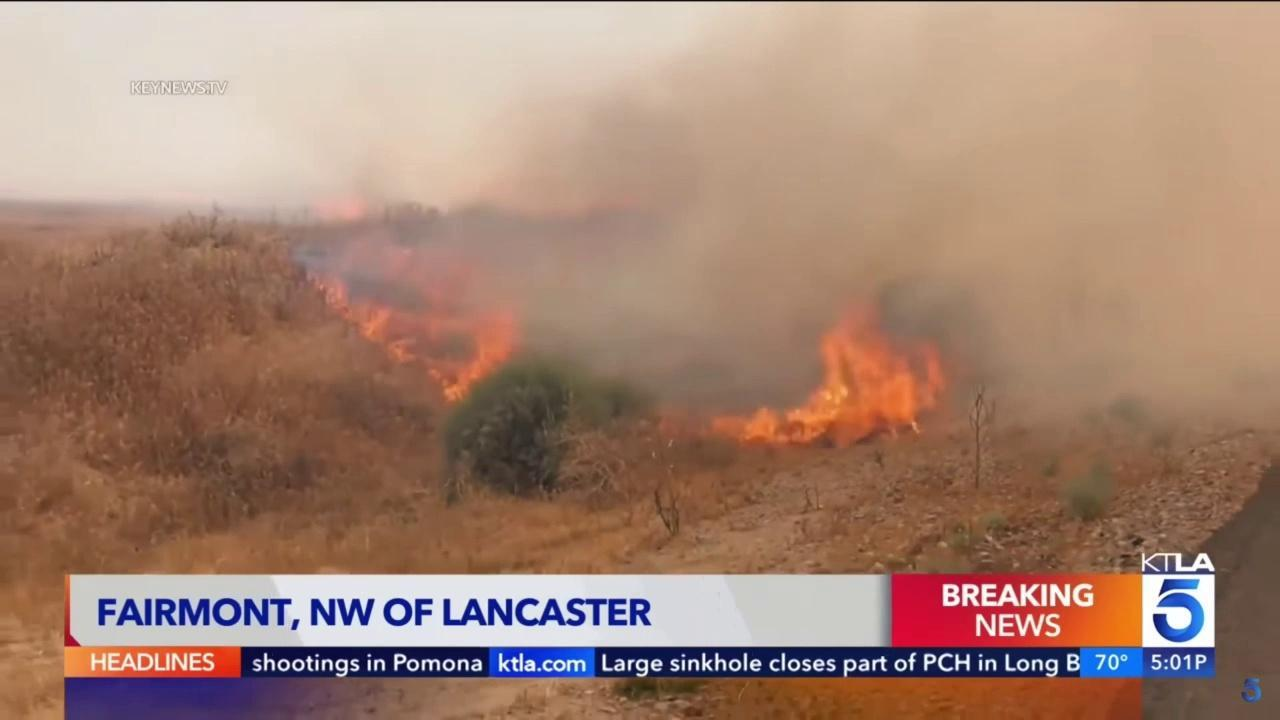fire: (704, 287, 953, 448), (293, 236, 520, 404), (310, 187, 371, 223)
smoke: (284, 2, 1280, 449)
